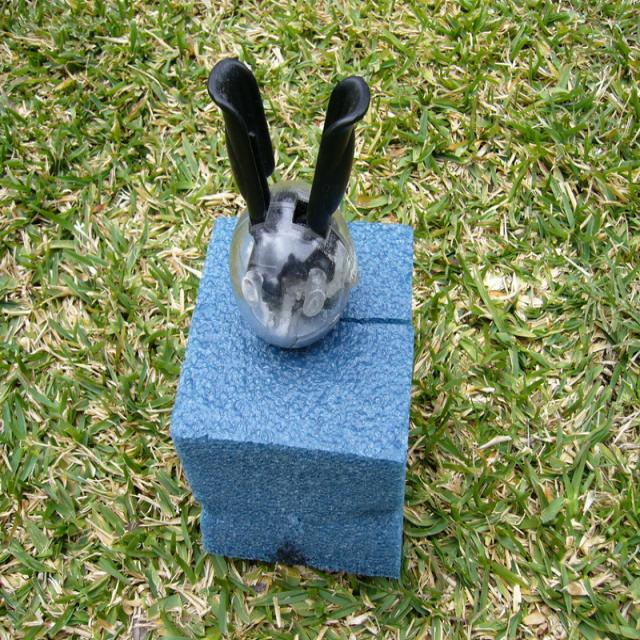tool: (208, 59, 369, 347)
